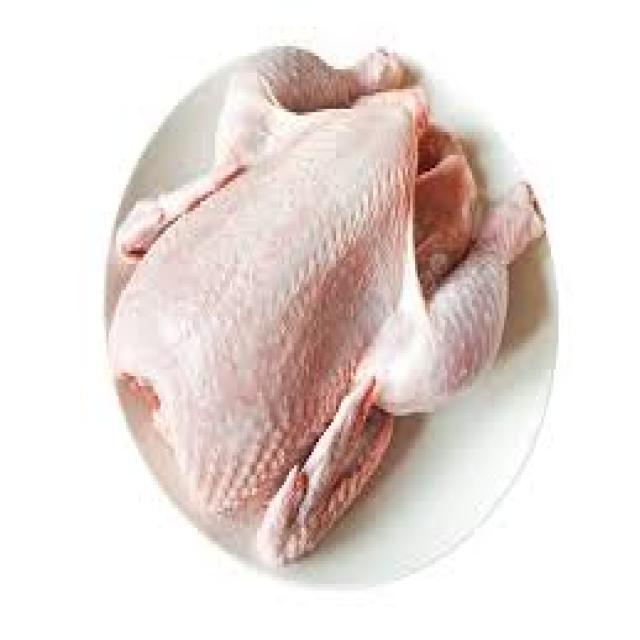Chicken: (102, 38, 554, 572)
